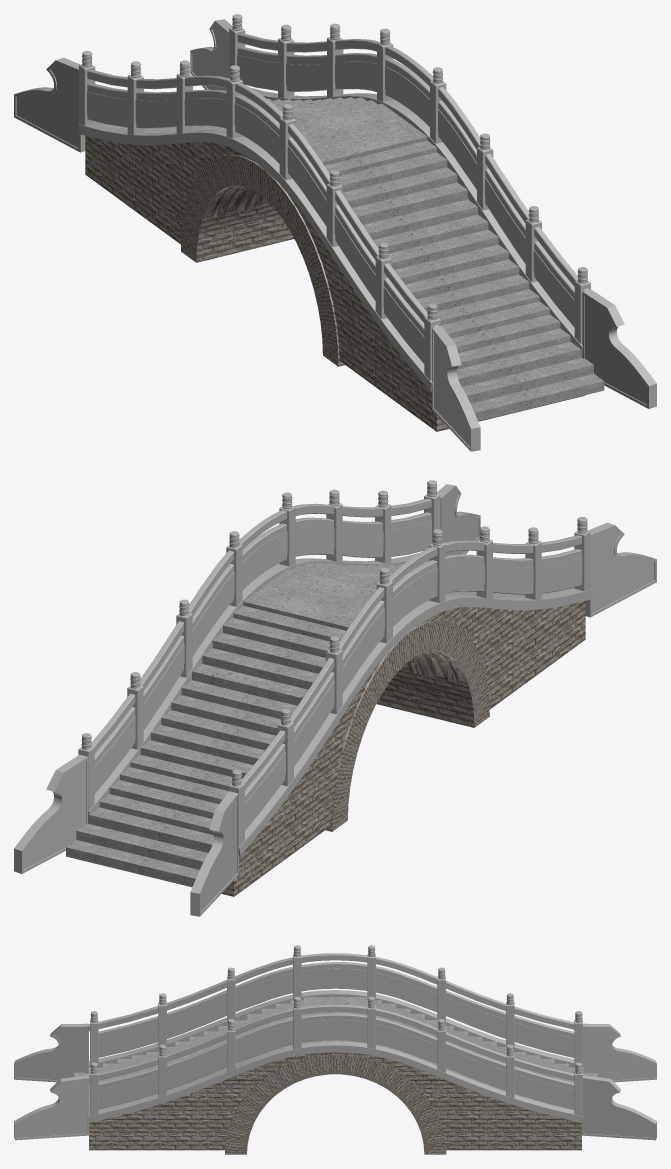
The picture shows the model from 3 angles, top to bottom: view 1: azimuth 30°, elevation 25°; view 2: azimuth 150°, elevation 25°; view 3: azimuth 270°, elevation 25°; orthographic projection. The views are drawn at different scales.
Visible parts, largest first — view 1: 拱桥03; view 2: 拱桥03; view 3: 拱桥03.
Boxes of the visible parts, x1,y1,x2,y2 form: 拱桥03: (14,14,656,451); 拱桥03: (14,480,656,916); 拱桥03: (14,945,656,1154).
Bounding box in the file's own units: 3.13 × 3.59 × 13.38.
Materials: 4 (2 with a texture image).
